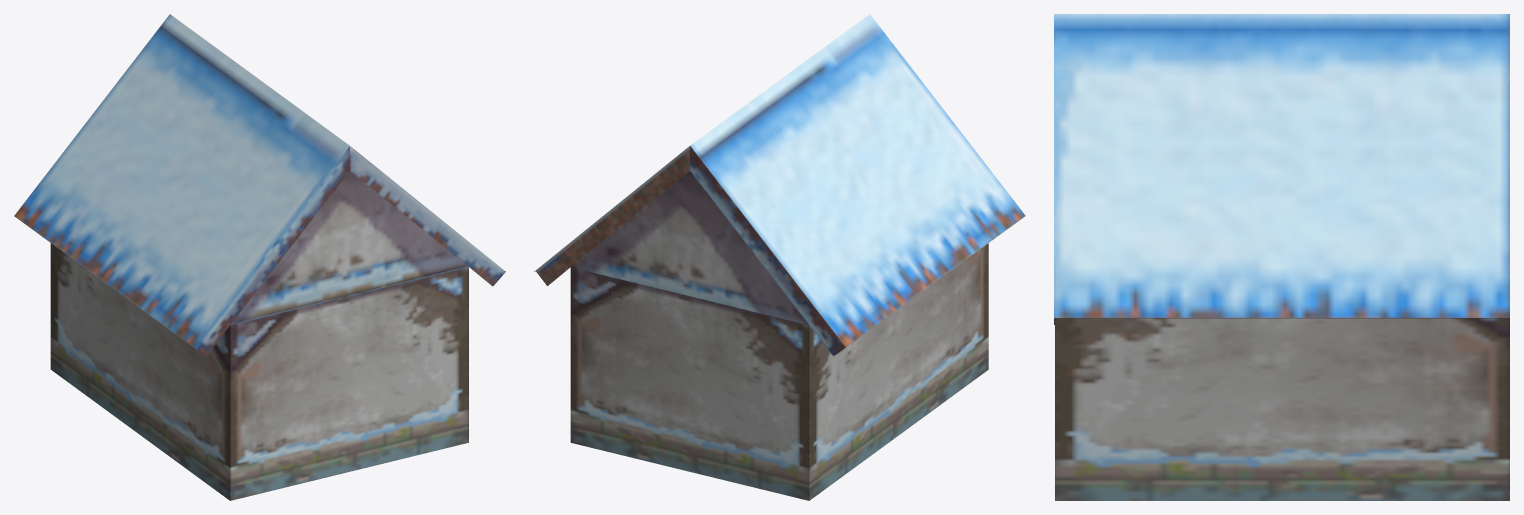
File: house_03.dae
3 views of the same model, side by side, from view 1: azimuth 30°, elevation 25°; view 2: azimuth 150°, elevation 25°; view 3: azimuth 270°, elevation 25° (orthographic). The views are drawn at different scales.
Visible parts, largest first — view 1: house_03; view 2: house_03; view 3: house_03.
Part boxes in pixels (x1,y1,x2,y2): house_03: (14,14,505,500); house_03: (534,14,1025,500); house_03: (1054,14,1509,500).
Size of the model in its own units: 4 by 4 by 4.
Materials: 1 (1 with a texture image).
